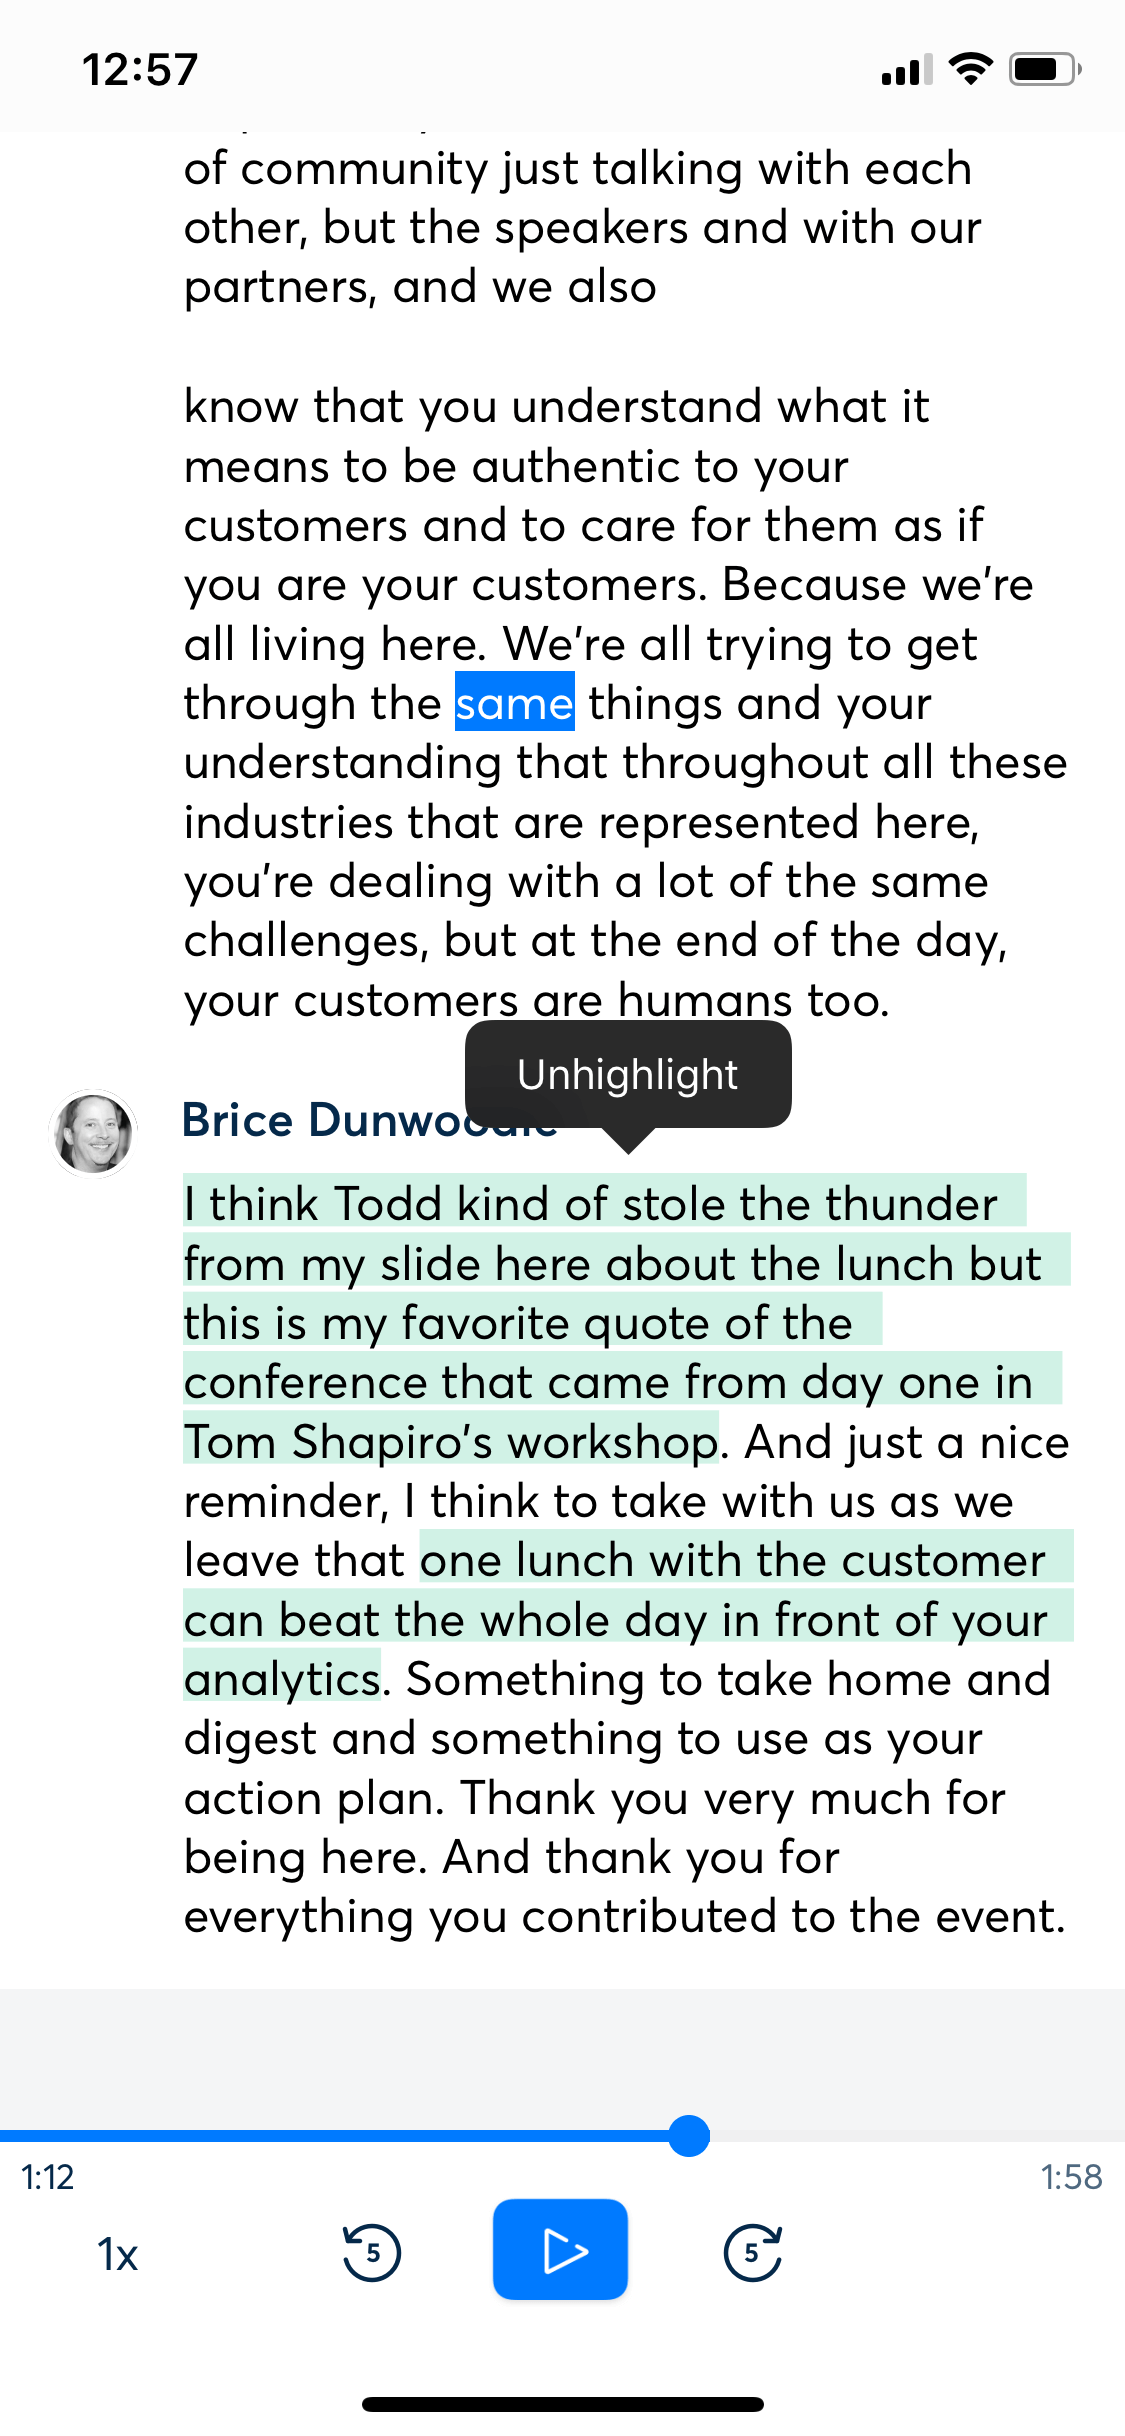Buttons: (479, 2187, 642, 2312), (702, 2191, 808, 2304), (314, 2195, 424, 2296), (64, 2201, 171, 2298)
Sliders: (2, 2074, 1125, 2189)
